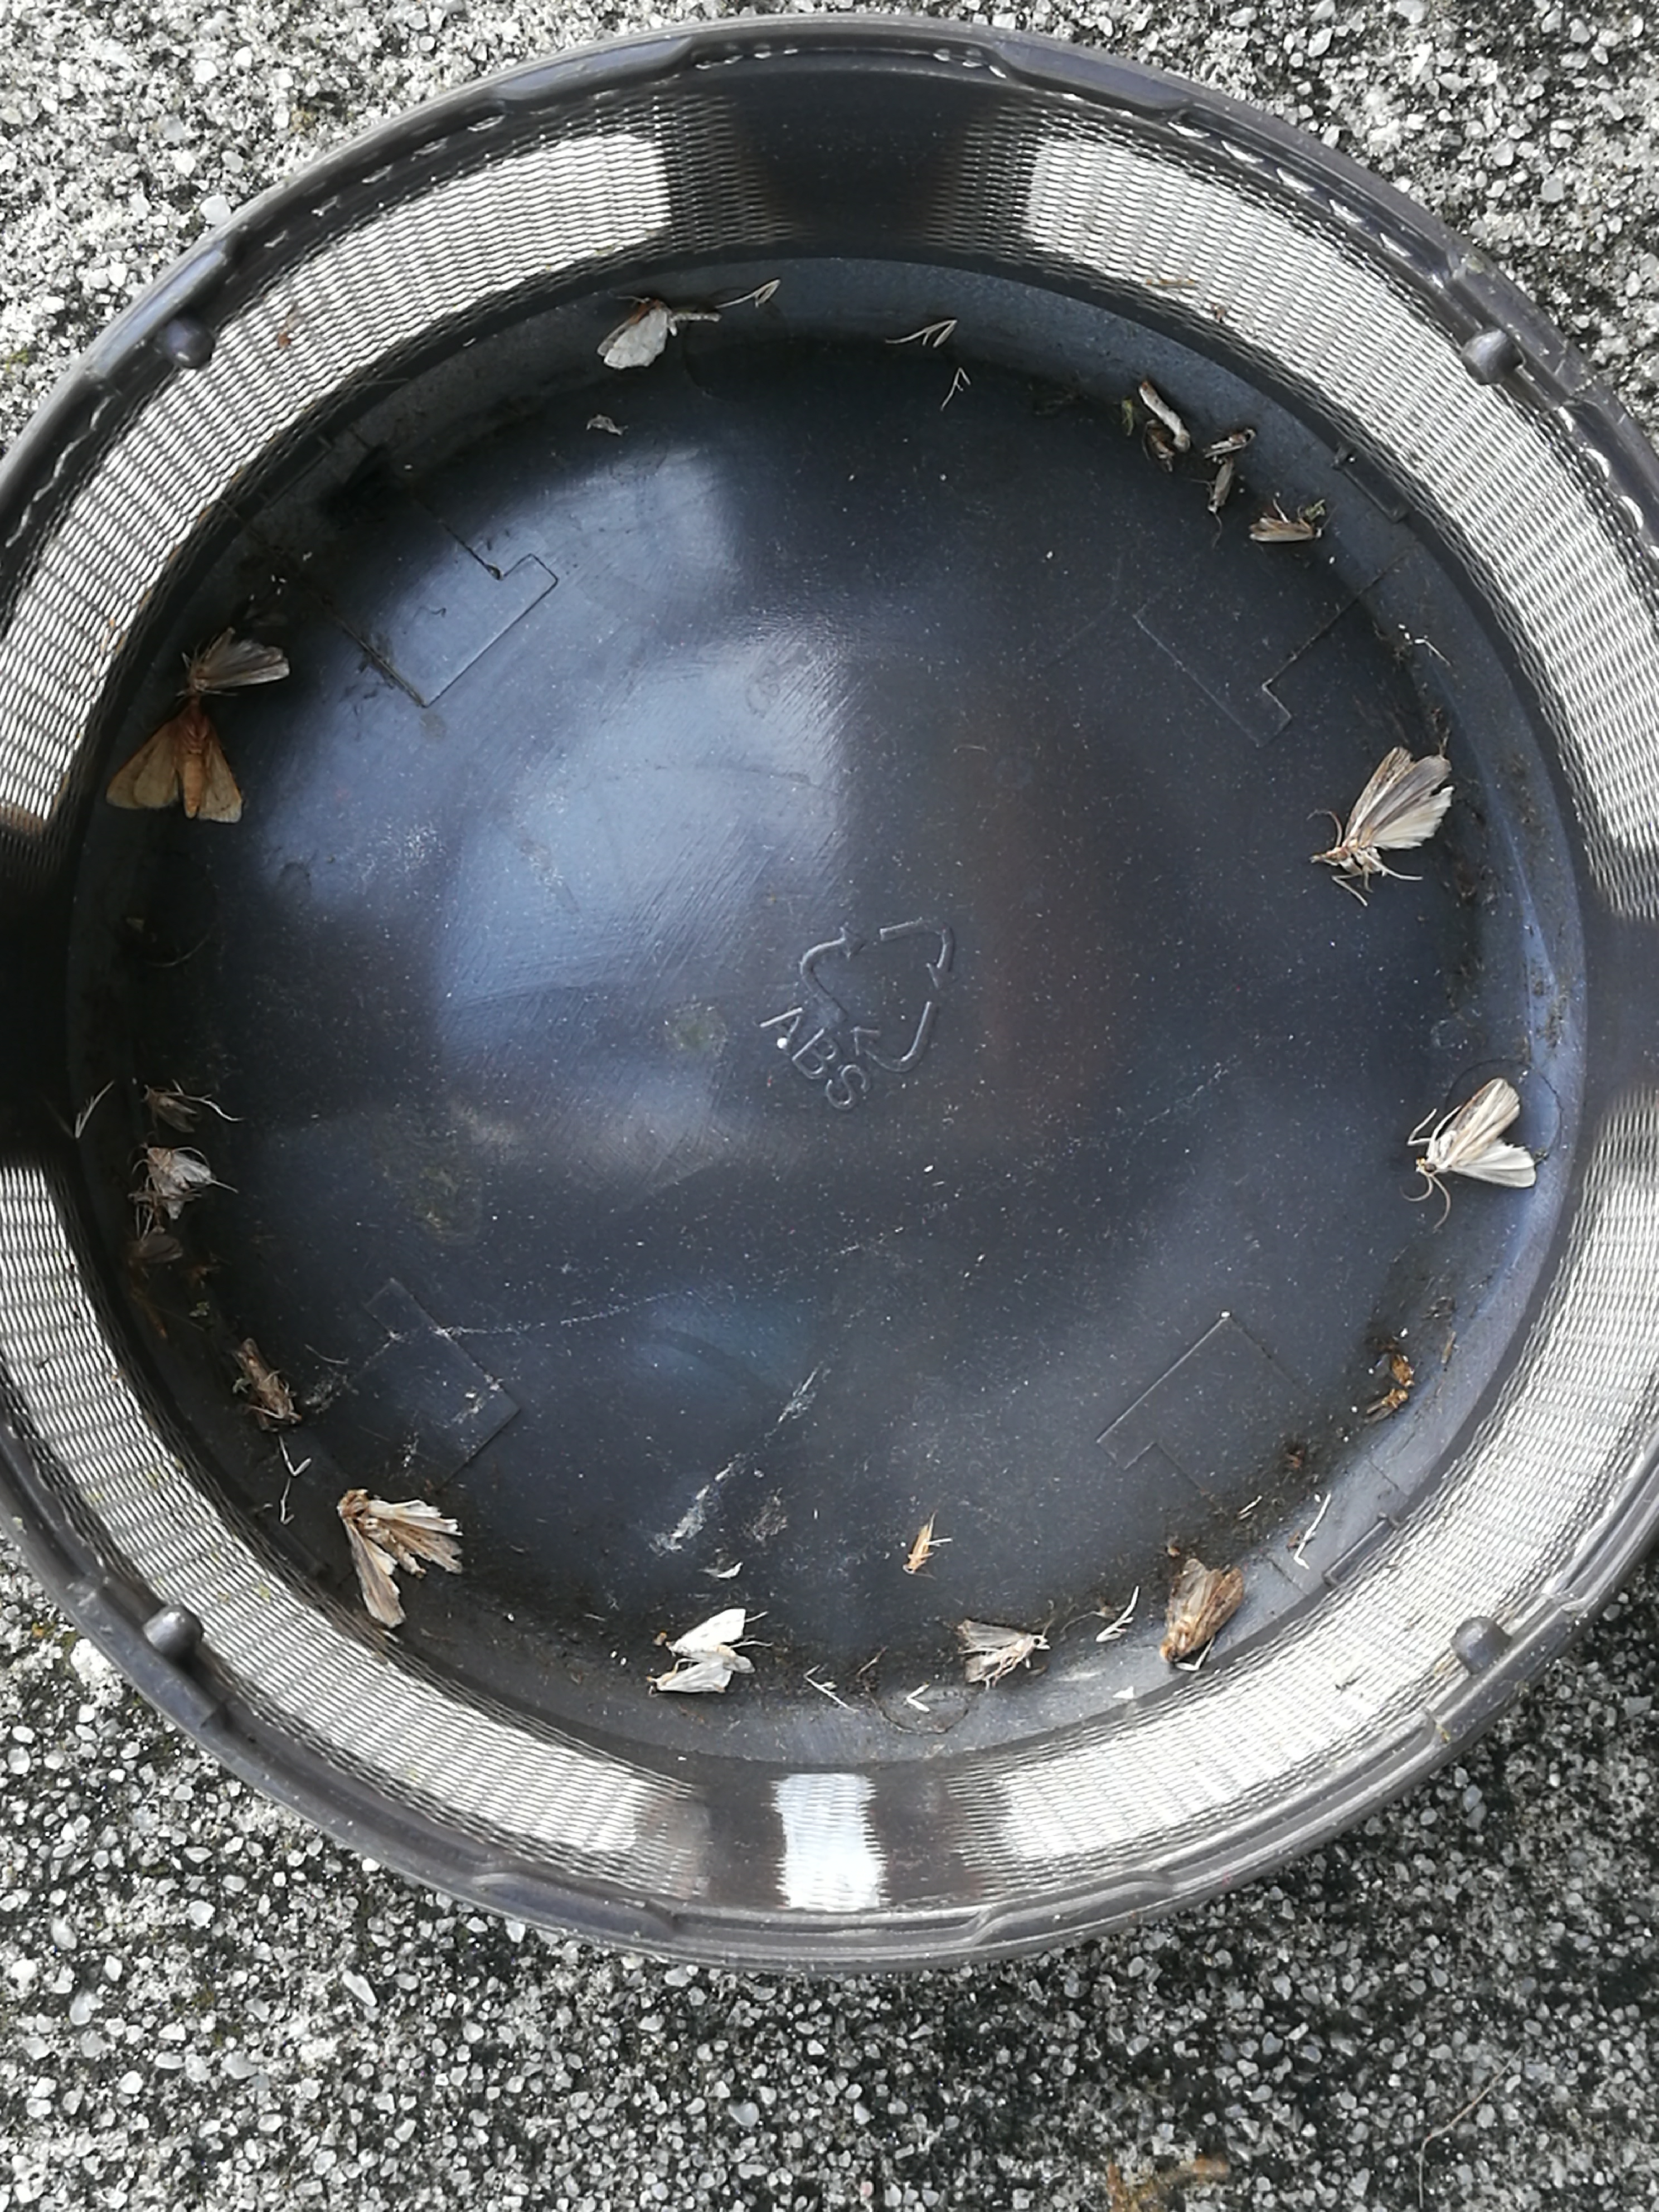mosquito: (232, 1338, 296, 1421), (1138, 383, 1192, 453), (139, 1087, 193, 1134), (1246, 519, 1321, 542), (903, 1526, 931, 1575), (1208, 460, 1230, 512), (1211, 427, 1255, 453)
moth: (1310, 749, 1453, 874), (338, 1487, 462, 1629), (108, 700, 244, 820), (1417, 1080, 1535, 1186), (1166, 1561, 1243, 1667), (186, 629, 291, 695), (667, 1609, 753, 1674), (598, 298, 676, 368), (145, 1146, 214, 1219), (960, 1622, 1047, 1679), (648, 1658, 730, 1693)
